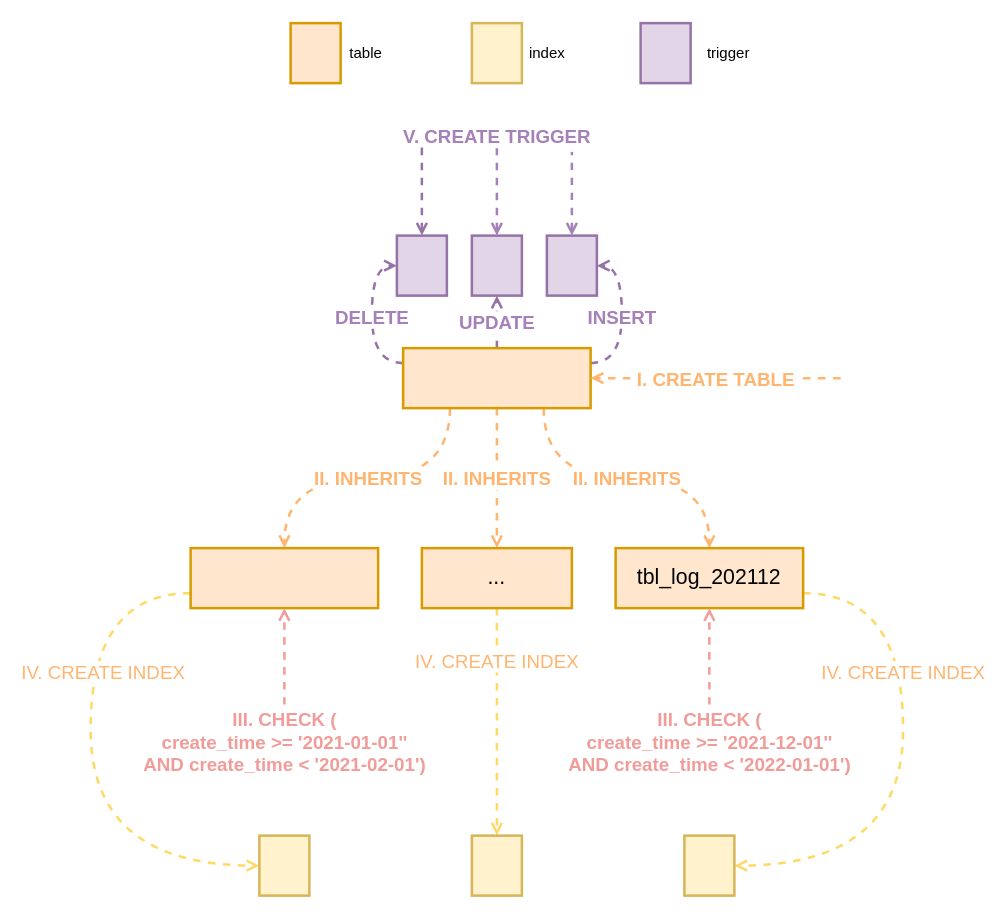
Image size: 1006x918. Some labels were removed from this diagram. The centre of each missing label's shape, as x and y in pixels:
"tbl_log" belongs at pixel 496 377.
"tbl_log_202101" belongs at pixel 284 577.
